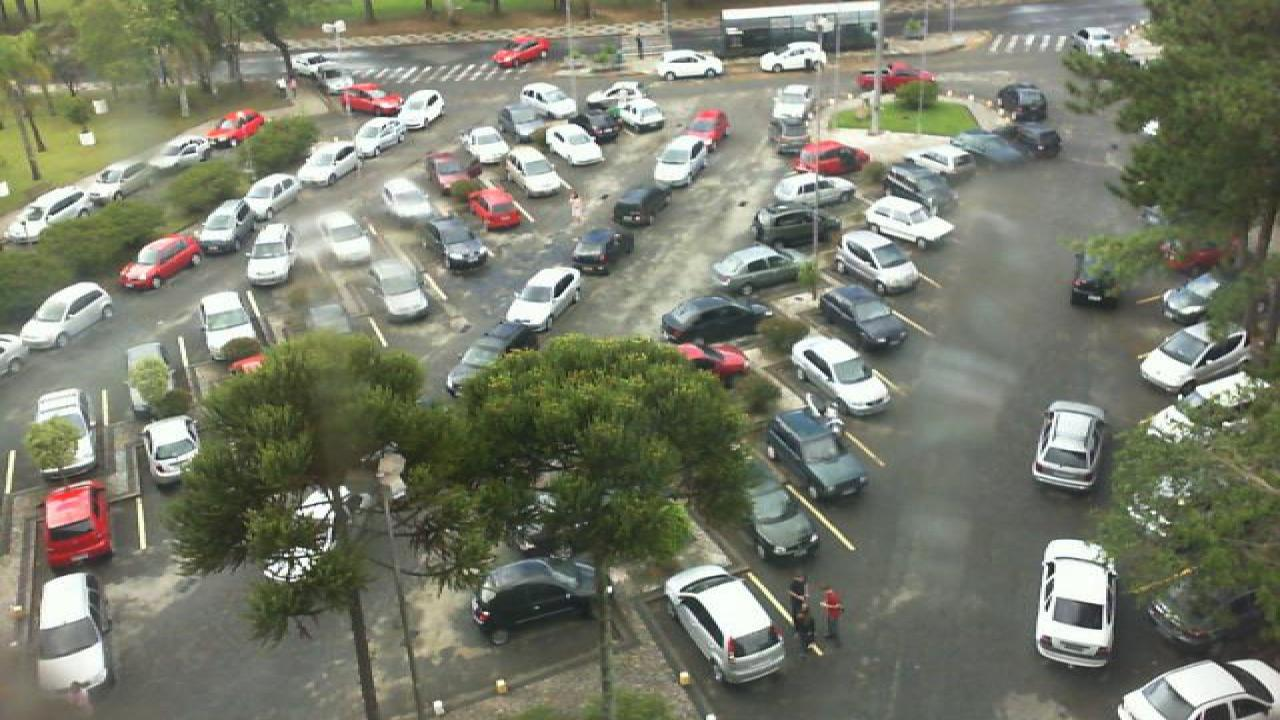Car: (662, 564, 788, 686), (468, 555, 604, 647), (1032, 538, 1122, 669), (34, 569, 114, 702), (1116, 656, 1280, 720), (766, 406, 870, 502), (786, 330, 896, 420), (1134, 320, 1254, 394), (742, 459, 822, 565), (444, 317, 532, 397), (1032, 398, 1106, 492), (22, 280, 116, 350), (42, 478, 114, 569), (814, 281, 908, 350), (28, 387, 96, 480), (658, 292, 774, 346), (830, 229, 920, 294), (200, 289, 262, 376), (502, 266, 582, 330), (116, 235, 202, 293), (864, 195, 956, 248), (708, 243, 808, 290), (142, 414, 206, 487), (750, 204, 848, 250), (370, 258, 432, 325), (424, 214, 488, 276), (1160, 270, 1230, 323), (232, 171, 304, 222), (1066, 250, 1128, 309), (242, 222, 296, 288), (880, 168, 956, 214), (314, 209, 372, 269), (680, 340, 754, 386), (26, 185, 108, 226), (194, 204, 262, 253), (296, 139, 362, 189), (894, 142, 974, 182), (772, 171, 860, 207), (512, 80, 584, 121), (510, 144, 562, 199), (346, 114, 408, 160), (946, 130, 1024, 166), (378, 174, 434, 224), (466, 188, 526, 233), (856, 60, 940, 92), (790, 140, 864, 176), (544, 122, 604, 166), (654, 137, 706, 187), (338, 80, 408, 117), (612, 184, 668, 229), (424, 146, 478, 192), (144, 136, 214, 171), (202, 109, 268, 146), (676, 106, 730, 150), (650, 48, 726, 79), (570, 229, 620, 276), (390, 87, 448, 127), (82, 160, 146, 196), (760, 39, 828, 72), (1008, 119, 1064, 159), (0, 204, 56, 244), (464, 124, 512, 168), (998, 81, 1048, 123), (570, 102, 620, 143), (488, 35, 552, 66), (770, 111, 816, 153), (616, 94, 666, 132), (770, 84, 814, 124)
